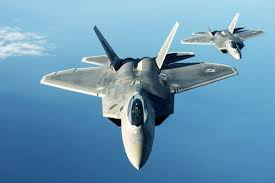fighter: (37, 20, 240, 173), (179, 12, 267, 63)
